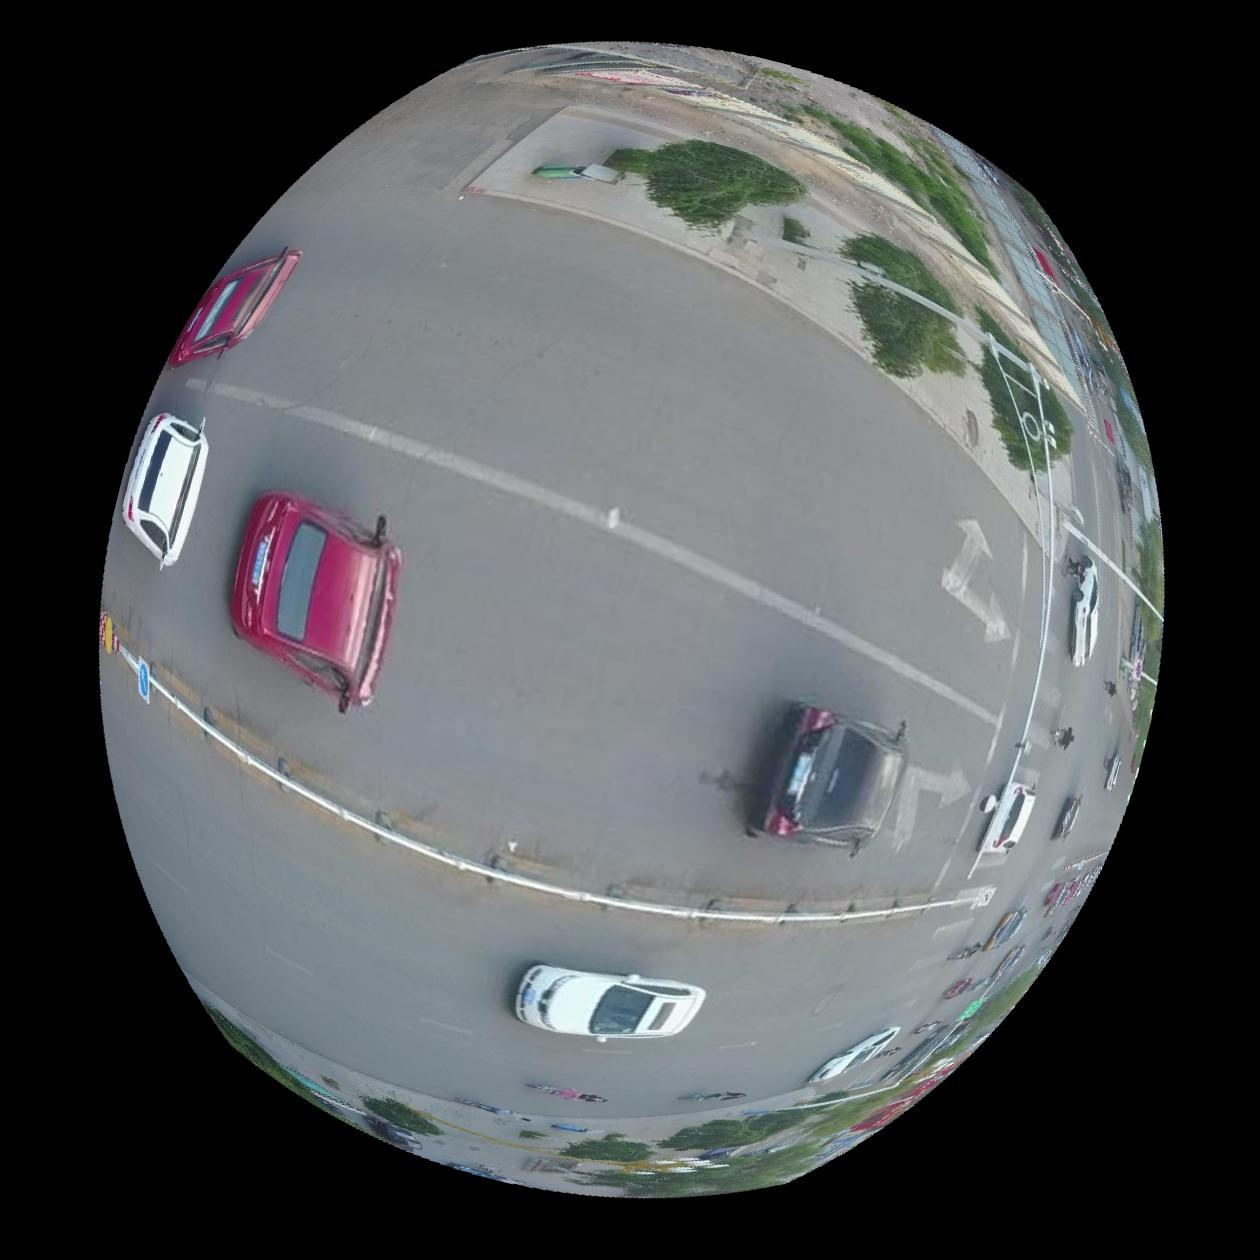cars: (227, 488, 401, 713), (746, 702, 907, 853), (511, 964, 705, 1042), (119, 411, 206, 566), (978, 782, 1035, 853), (1070, 555, 1100, 666)
trees: (605, 136, 806, 231), (976, 310, 1073, 471), (850, 278, 964, 376), (840, 232, 960, 311)
